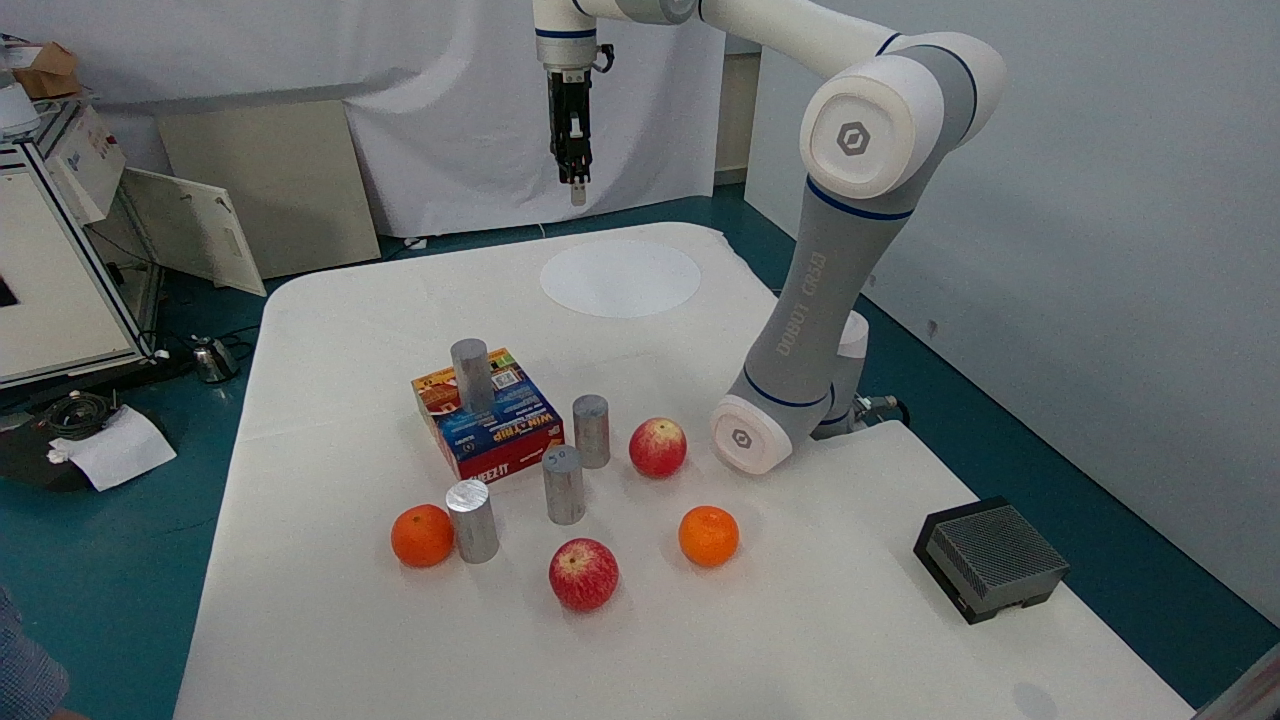apple: (543, 529, 626, 622), (619, 410, 694, 486)
metal rod: (436, 472, 510, 580), (527, 432, 601, 534), (446, 331, 507, 428), (557, 387, 617, 471)
orange: (377, 496, 468, 574), (674, 492, 754, 579)
